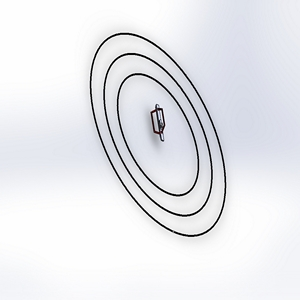circle: (63, 29, 235, 244)
submarine: (136, 102, 178, 150)
